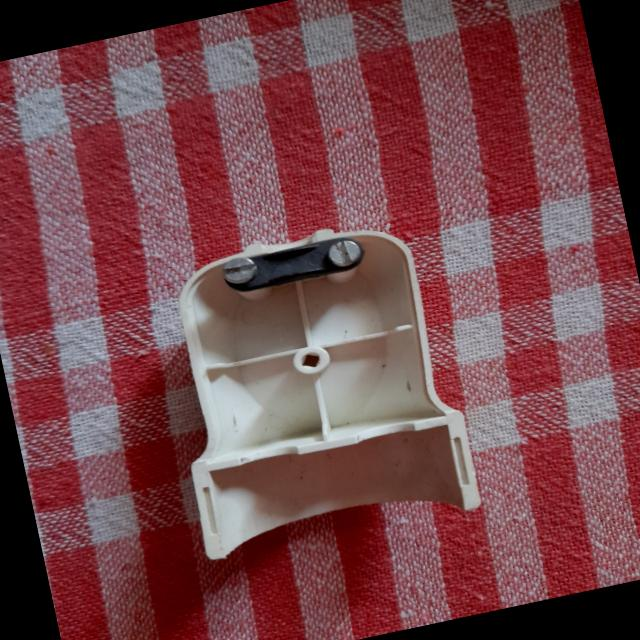Slotted: (218, 254, 258, 286), (324, 237, 364, 269)
